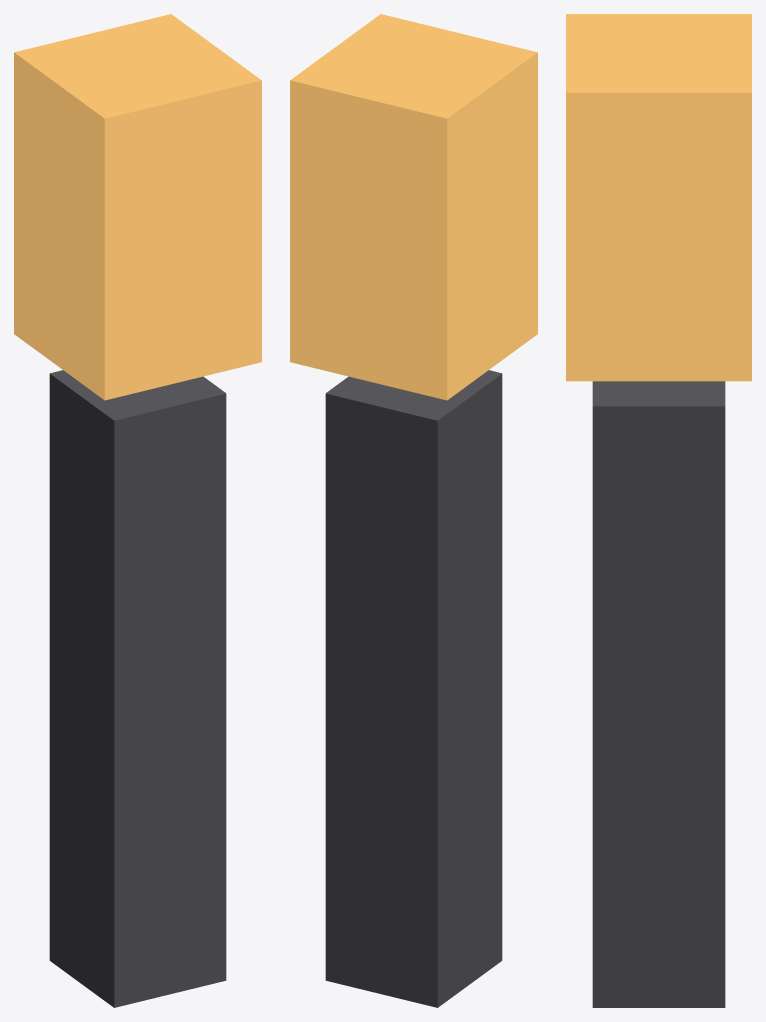
The model's file is tocha_parede.glb.
The picture shows the model from 3 angles, left to right: view 1: azimuth 30°, elevation 25°; view 2: azimuth 150°, elevation 25°; view 3: azimuth 270°, elevation 25°; orthographic projection. The views are drawn at different scales.
Visible parts, largest first — view 1: Malha_0; view 2: Malha_0; view 3: Malha_0.
Part boxes in pixels (bbox=[...]): Malha_0: bbox=[14, 14, 261, 1007]; Malha_0: bbox=[290, 14, 537, 1007]; Malha_0: bbox=[566, 14, 751, 1007].
Bounding box in the file's own units: 0.14 × 0.77 × 0.14.
